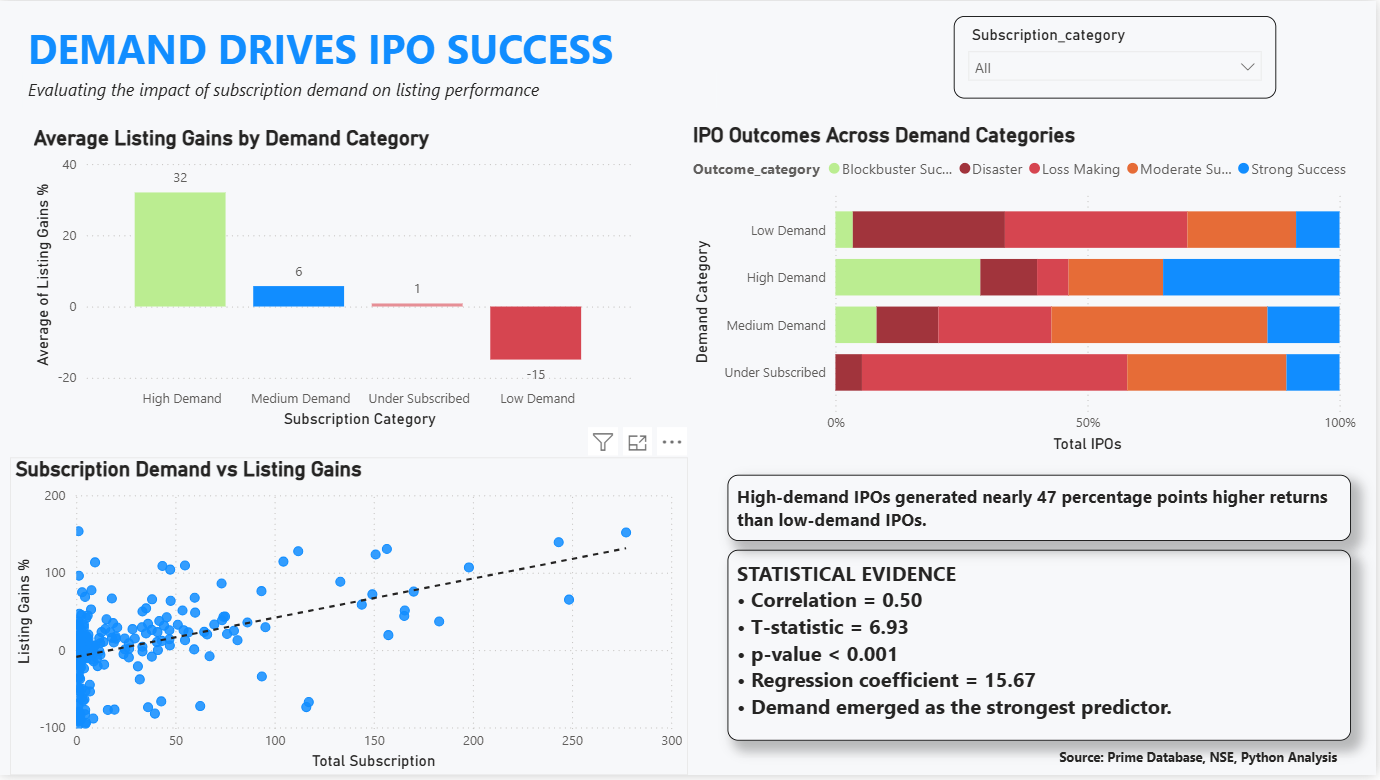

The dashboard page shown, as its layout file describes it:
{"tool":"powerbi","page":{"name":"Demand Drives Success","canvas":[1280,720],"ordinal":1},"visuals":[{"type":"clusteredColumnChart","title":"Average Listing Gains by Demand Category","fields":{"Category":["Dashboard_data.Subscription_category"],"Y":["Avg(Dashboard_data.Listing_gains_percent)"]},"box":[31.4,116.3,557,280.2],"z":0},{"type":"hundredPercentStackedBarChart","title":"IPO Outcomes Across Demand Categories","fields":{"Y":["CountNonNull(Dashboard_data.Ipo_name)"],"Category":["Dashboard_data.Subscription_category"],"Series":["Dashboard_data.Outcome_category"]},"box":[639.5,114,626.7,310.5],"z":1000},{"type":"scatterChart","title":"Subscription Demand vs Listing Gains","fields":{"X":["Dashboard_data.Total_subscription"],"Y":["Dashboard_data.Listing_gains_percent"]},"box":[9.3,424.4,630.2,295.3],"z":2000},{"type":"textbox","box":[676.7,510.5,580.2,177.9],"z":3000},{"type":"textbox","box":[20.9,14,767.4,61.6],"z":4000},{"type":"textbox","box":[20.9,66.3,645.3,33.7],"z":5000},{"type":"textbox","box":[980.2,688.4,300,31.4],"z":6000},{"type":"textbox","box":[676.7,440.7,580.2,61.6],"z":7000},{"type":"slicer","fields":{"Values":["Dashboard_data.Subscription_category"]},"box":[887.2,14,300,76.7],"z":7001}]}

Visuals, with their boxes in screenshot pixels (x1, y1, x2, y2), scaled from the page's 1280x720 canvas onto the 1380x780 screenshot:
"Average Listing Gains by Demand Category" clusteredColumnChart: locate(34, 126, 634, 430)
"IPO Outcomes Across Demand Categories" hundredPercentStackedBarChart: locate(689, 123, 1365, 460)
"Subscription Demand vs Listing Gains" scatterChart: locate(10, 460, 689, 779)
textbox: locate(730, 553, 1355, 746)
textbox: locate(23, 15, 850, 82)
textbox: locate(23, 72, 718, 108)
textbox: locate(1057, 746, 1379, 779)
textbox: locate(730, 477, 1355, 544)
slicer - Dashboard_data.Subscription_category: locate(957, 15, 1280, 98)
